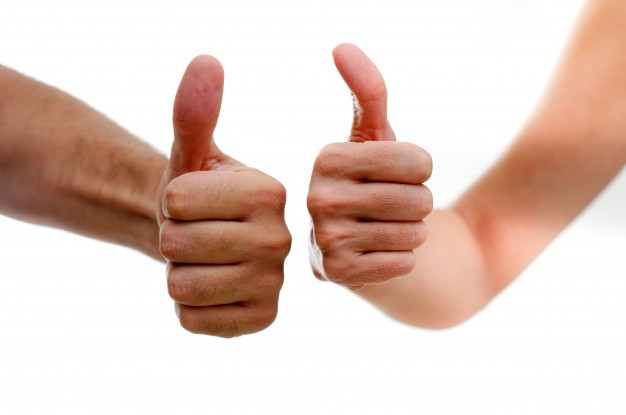thumbsup: (157, 54, 292, 339), (306, 41, 433, 285)
